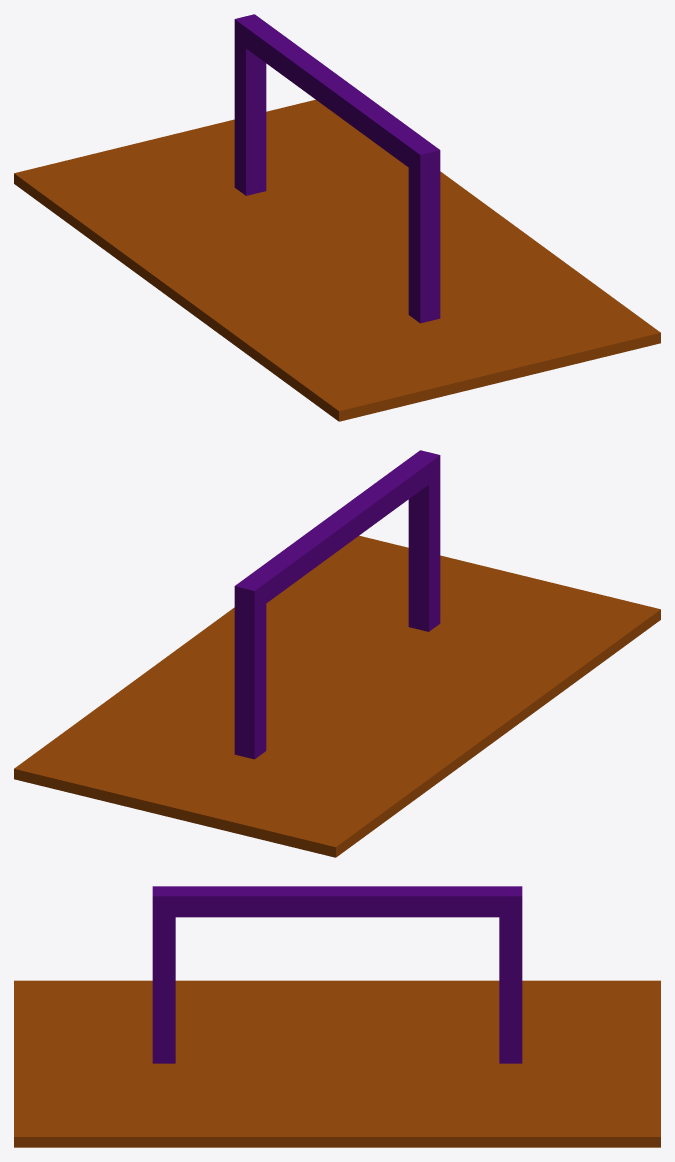
File: cover.dae
3 renders of one model, top to bottom at view 1: azimuth 30°, elevation 25°; view 2: azimuth 150°, elevation 25°; view 3: azimuth 270°, elevation 25°, orthographic.
Visible parts, largest first — view 1: cover, handle; view 2: cover, handle; view 3: cover, handle.
Part boxes in pixels (left/top/right/bottom): cover: left=14, top=99, right=660, bottom=421; handle: left=234, top=14, right=440, bottom=323; cover: left=14, top=535, right=660, bottom=857; handle: left=234, top=450, right=440, bottom=759; cover: left=14, top=980, right=660, bottom=1147; handle: left=152, top=886, right=522, bottom=1063.
Bounding box in the file's own units: 0.2032 × 0.3556 × 0.108.
